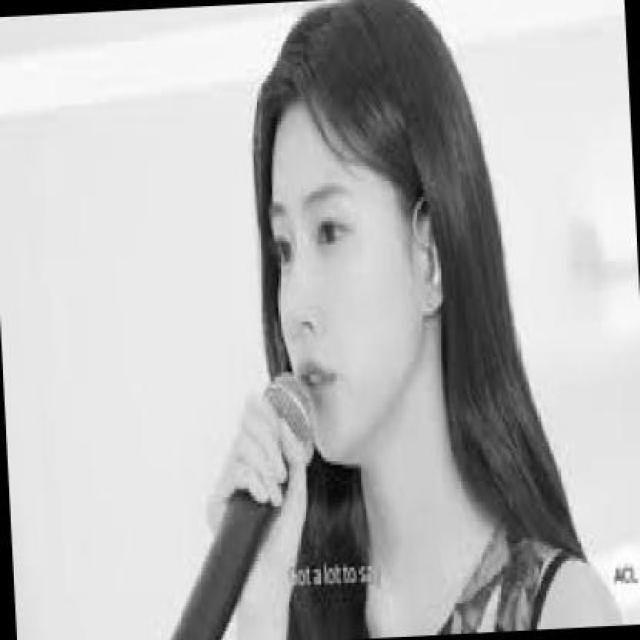earphone: (419, 222, 466, 320)
